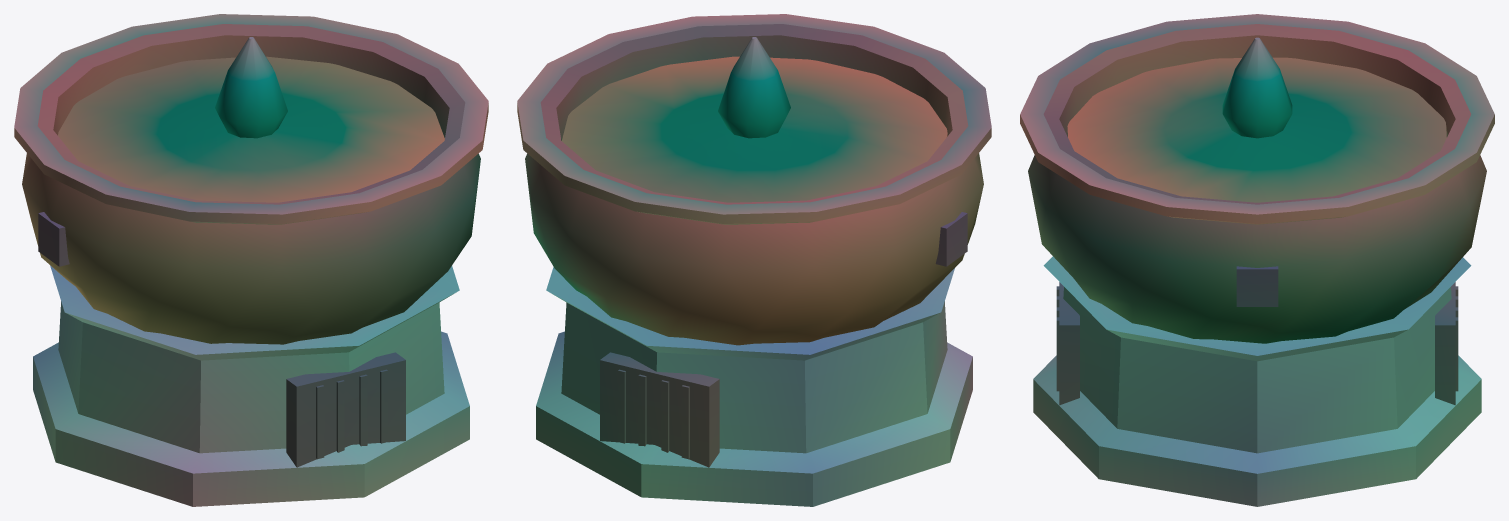
File: tallow_vat.glb
3 views of the same model, side by side, from view 1: azimuth 30°, elevation 25°; view 2: azimuth 150°, elevation 25°; view 3: azimuth 270°, elevation 25° (orthographic).
Visible parts, largest first — view 1: vat_kettle, vat_furnace, vat_wax_pool, vat_rim_brass, vat_iron, vat_flame; view 2: vat_kettle, vat_furnace, vat_wax_pool, vat_rim_brass, vat_iron, vat_flame; view 3: vat_furnace, vat_kettle, vat_wax_pool, vat_rim_brass, vat_iron, vat_flame.
Boxes of the visible parts, x1,y1,x2,y2 form: vat_kettle: [22, 24, 480, 344]; vat_furnace: [33, 265, 469, 506]; vat_wax_pool: [58, 56, 444, 202]; vat_rim_brass: [14, 14, 488, 224]; vat_iron: [38, 212, 405, 467]; vat_flame: [215, 37, 287, 138]; vat_kettle: [525, 24, 983, 345]; vat_furnace: [536, 267, 972, 506]; vat_wax_pool: [561, 56, 947, 202]; vat_rim_brass: [517, 14, 991, 224]; vat_iron: [600, 212, 967, 467]; vat_flame: [718, 37, 790, 138]; vat_furnace: [1033, 256, 1481, 506]; vat_kettle: [1028, 24, 1486, 343]; vat_wax_pool: [1067, 57, 1447, 202]; vat_rim_brass: [1020, 14, 1494, 224]; vat_iron: [1056, 266, 1458, 405]; vat_flame: [1222, 37, 1292, 138].
Size of the model in its own units: 1.82 by 1.58 by 1.82.
